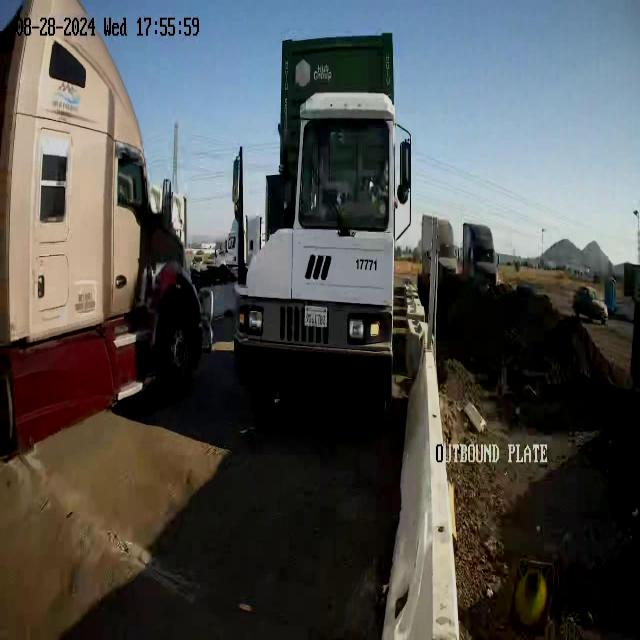CONTAINER: (278, 31, 396, 309)
